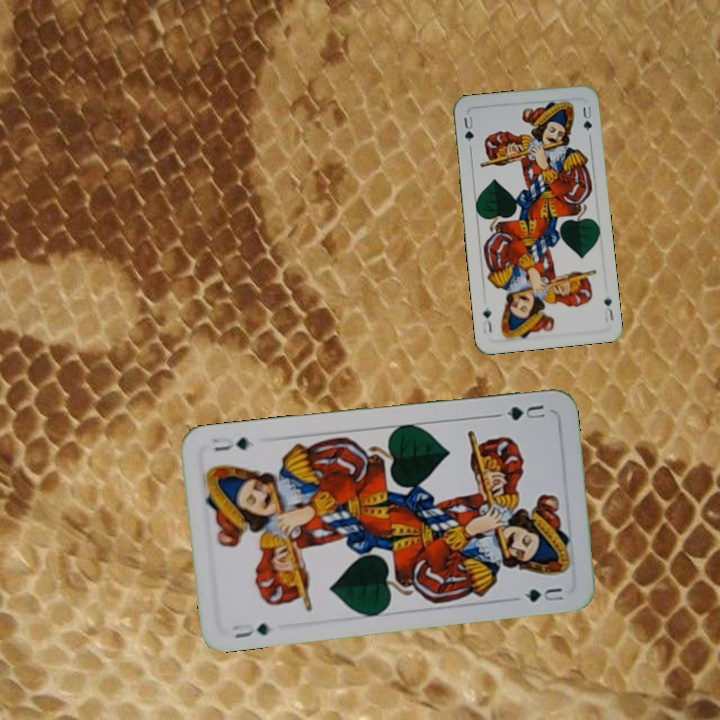GU: (492, 400, 548, 424), (231, 619, 273, 641), (460, 112, 477, 144), (600, 295, 616, 325)
